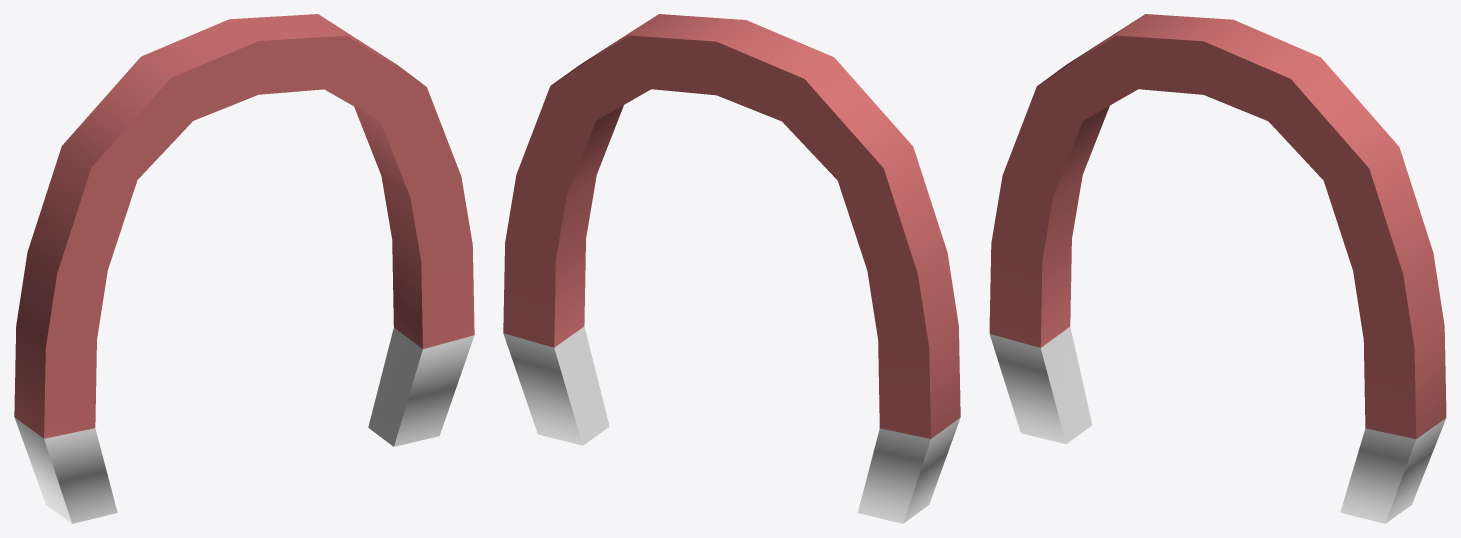
File: Magnet_new.fbx
The picture shows the model from 3 angles, left to right: view 1: azimuth 30°, elevation 25°; view 2: azimuth 150°, elevation 25°; view 3: azimuth 330°, elevation 25°; orthographic projection.
Parts seen in each view (by area): view 1: pCube2; view 2: pCube2; view 3: pCube2.
Boxes of the visible parts, box(x1,y1,x2,y2) form: pCube2: box(14, 14, 474, 523); pCube2: box(503, 14, 960, 523); pCube2: box(989, 14, 1446, 523).
Bounding box in the file's own units: 5.34 × 5.22 × 0.6698.
